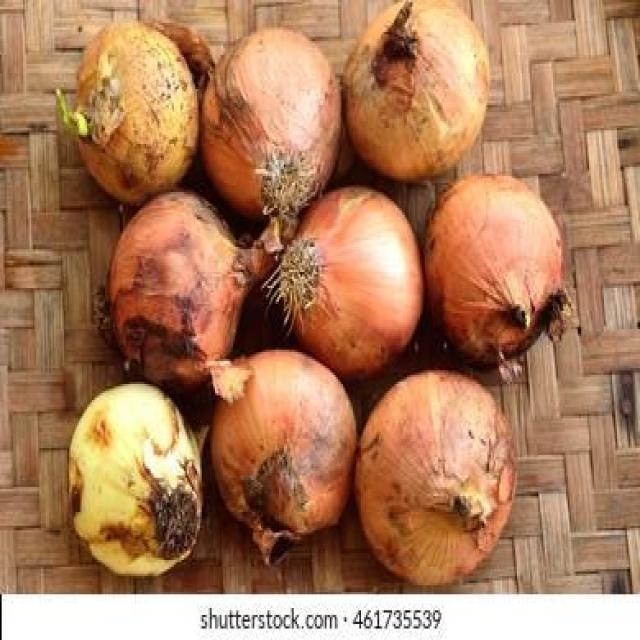Onion: (158, 17, 343, 218), (357, 373, 519, 592), (95, 185, 271, 382), (261, 182, 423, 383), (425, 160, 578, 368), (207, 345, 364, 544), (72, 384, 205, 590), (345, 0, 492, 183), (56, 23, 203, 201), (56, 85, 87, 137)
